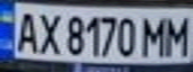0: (115, 12, 142, 59)
1: (81, 12, 100, 56)
7: (100, 12, 118, 57)
8: (63, 11, 84, 56)
A: (9, 8, 42, 54)
M: (163, 11, 193, 57), (139, 12, 169, 57)
X: (33, 8, 63, 55)
